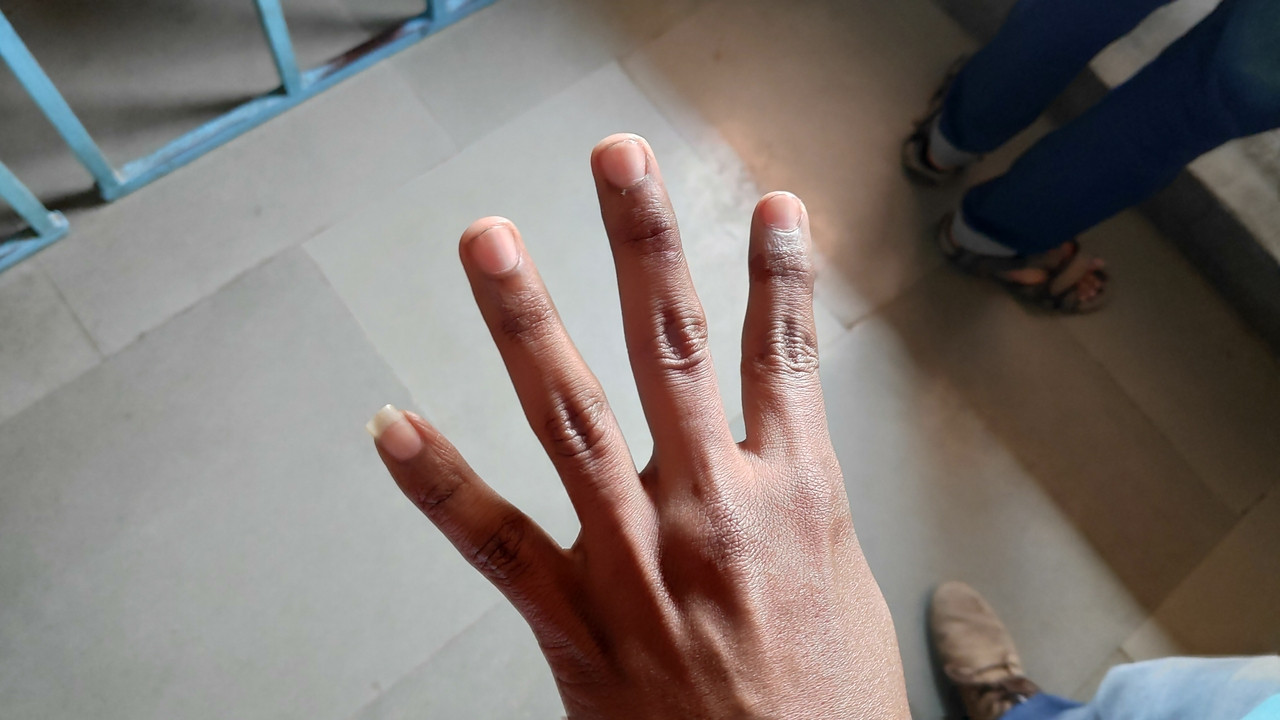fingertip: (352, 402, 436, 472), (452, 210, 528, 280), (582, 132, 664, 192), (748, 182, 818, 248)
